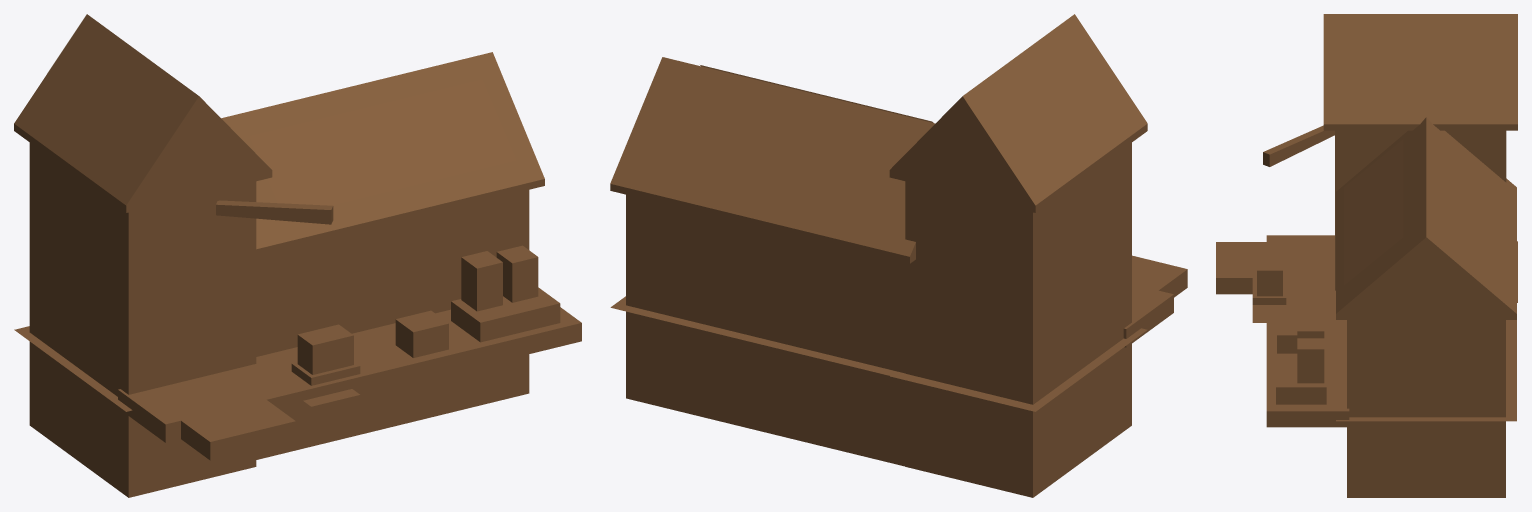
The model's file is grain-selection.fbx.
3 views of the same model, side by side, from view 1: azimuth 30°, elevation 25°; view 2: azimuth 150°, elevation 25°; view 3: azimuth 270°, elevation 25° (orthographic). The views are drawn at different scales.
Visible parts, largest first — view 1: PickVolume, ShoreFootprint; view 2: PickVolume, ShoreFootprint; view 3: PickVolume, ShoreFootprint.
Boxes of the visible parts, x1,y1,x2,y2 form: PickVolume: (14, 14, 581, 497); ShoreFootprint: (14, 326, 359, 411); PickVolume: (610, 14, 1187, 497); ShoreFootprint: (610, 296, 1147, 411); PickVolume: (1216, 14, 1517, 497); ShoreFootprint: (1252, 241, 1517, 421).
Bounding box in the file's own units: 0.0229 × 0.0201 × 0.0162.
